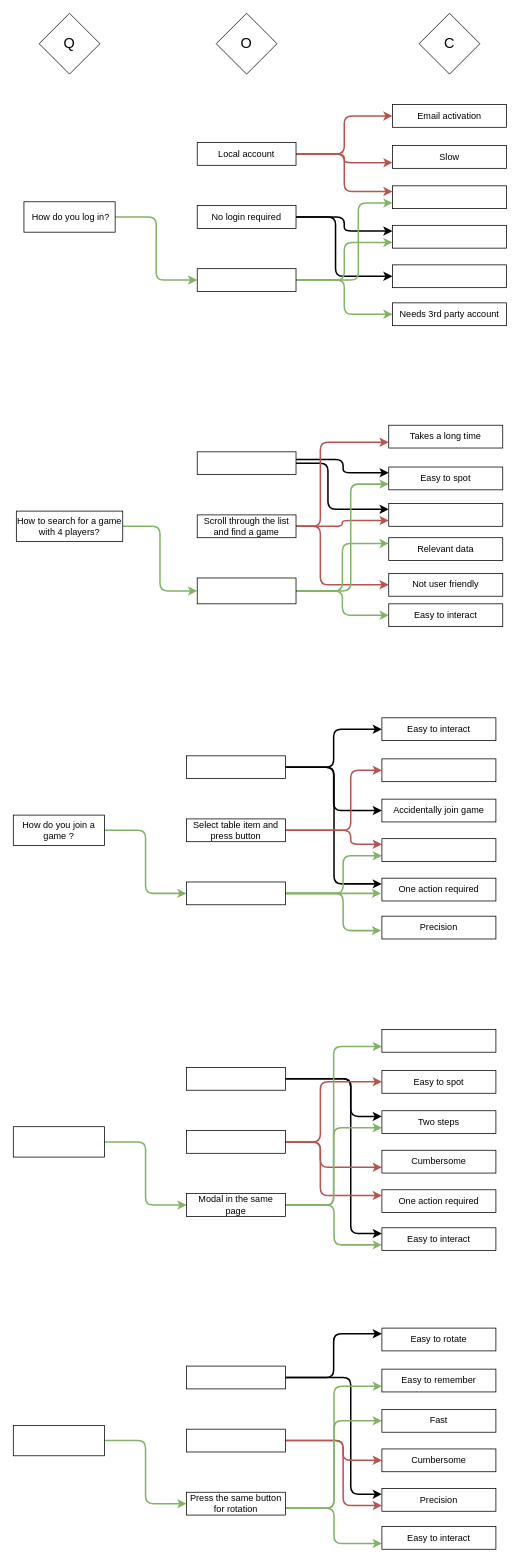
The diagram is 520 pixels wide and 1563 high, and some of its shapes have lost their labels. The centre of each missing label's shape, as x and y in pixels:
"Anonymity" belongs at [449,276].
"Buttons for each direction" belongs at [235,1377].
"Cannot join game accidentally" belongs at [438,849].
"Clean UI" belongs at [438,1040].
"Click on table item" belongs at [235,767].
"Drag to rotate" belongs at [235,1440].
"Extra data" belongs at [445,514].
"Fast interaction" belongs at [449,236].
"Form in the same page with game browser" belongs at [235,1141].
"How do you create a game ?" belongs at [58,1141].
"How do you rotate a game card?" belongs at [58,1440].
"Link to separate page" belongs at [235,1078].
"One button for all items" belongs at [438,770].
"Press button from table item" belongs at [235,893].
"Save user data" belongs at [449,197].
"Select games with 4 players from dropdown" belongs at [246,590].
"Social login" belongs at [246,279].
"Sort the game list" belongs at [246,463].
